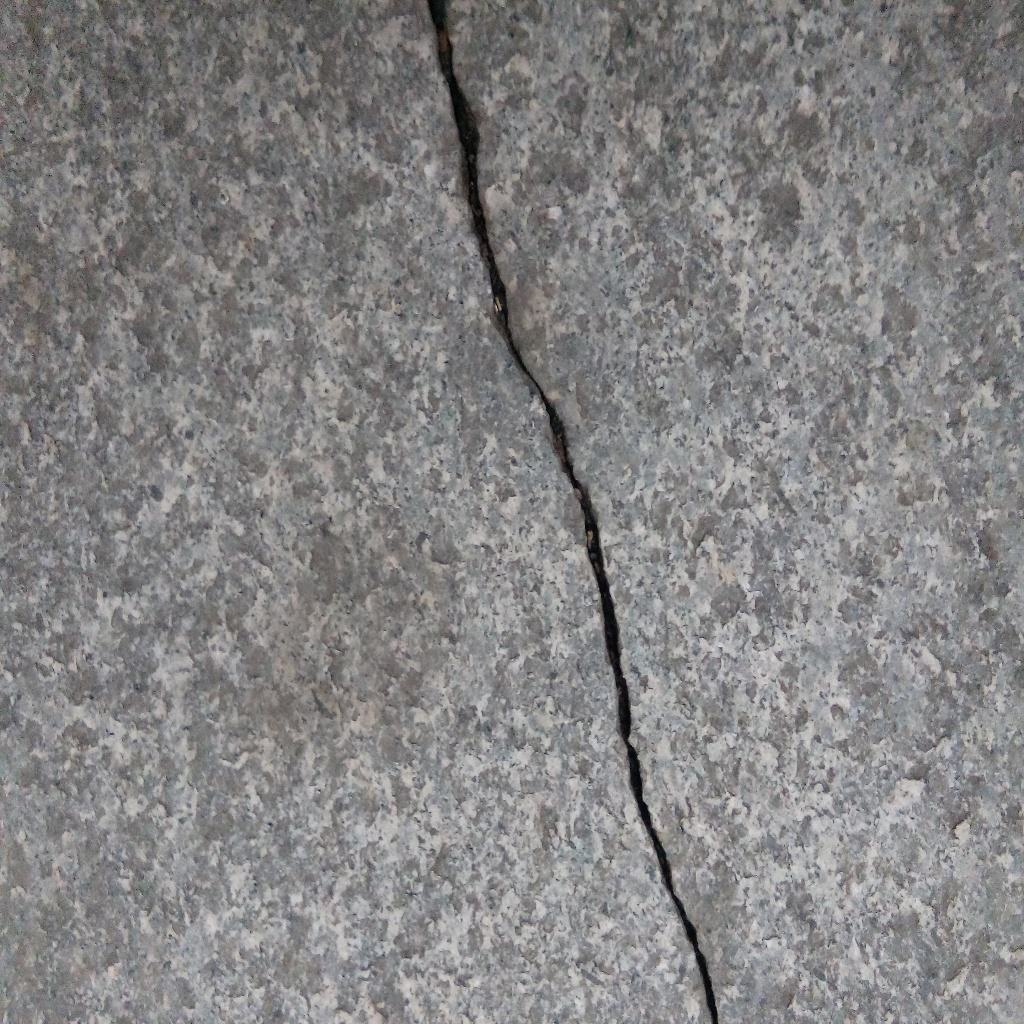Crack: (427, 1, 719, 1024)
